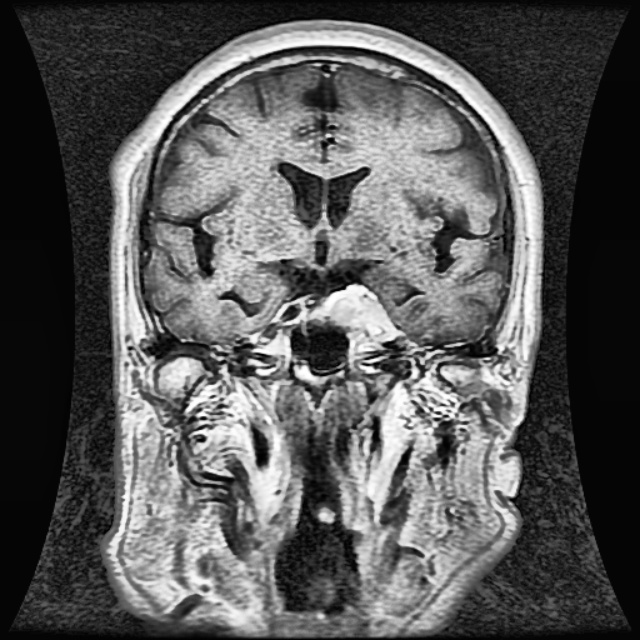Glioma: (312, 285, 395, 340)
